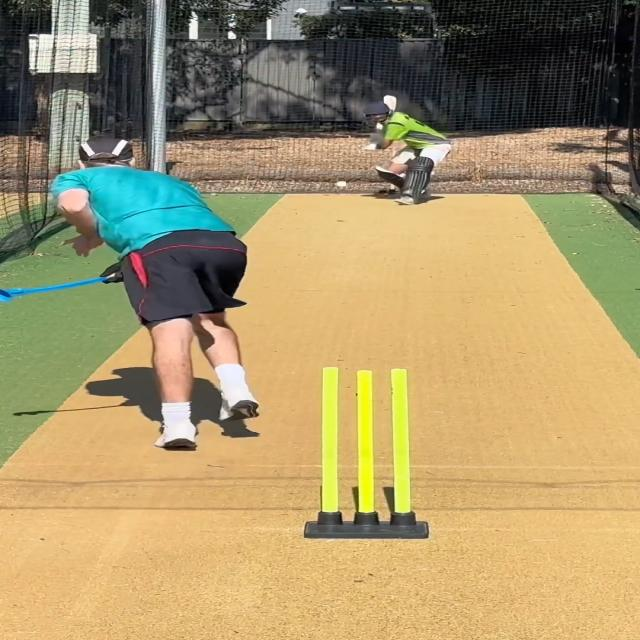ball: (332, 180, 350, 190)
stump: (299, 366, 432, 538)
